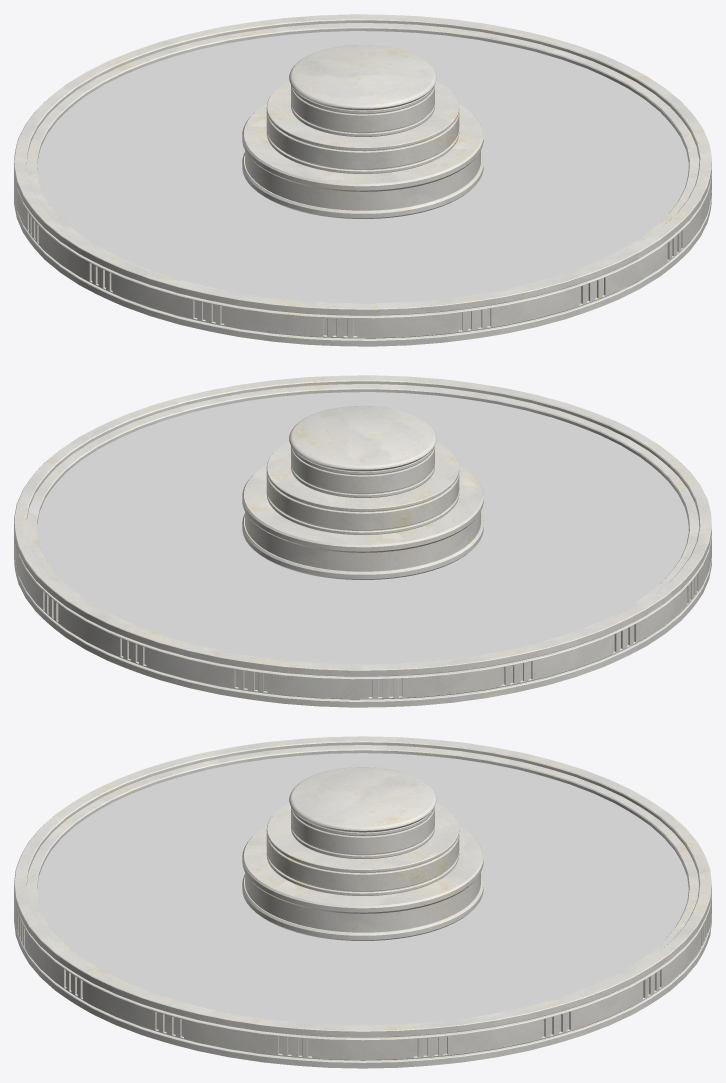
Rendered from Fountain.fbx.
3 renders of one model, top to bottom at view 1: azimuth 30°, elevation 25°; view 2: azimuth 150°, elevation 25°; view 3: azimuth 270°, elevation 25°, orthographic.
Parts seen in each view (by area): view 1: FountainWater, Fountain; view 2: FountainWater, Fountain; view 3: FountainWater, Fountain.
Part boxes in pixels (x1,y1,x2,y2): FountainWater: [37, 31, 688, 303]; Fountain: [14, 14, 711, 346]; FountainWater: [37, 392, 688, 664]; Fountain: [14, 375, 711, 707]; FountainWater: [37, 753, 688, 1025]; Fountain: [14, 736, 711, 1068].
Size of the model in its own units: 744 by 146 by 744.
Materials: 2 (1 with a texture image).
